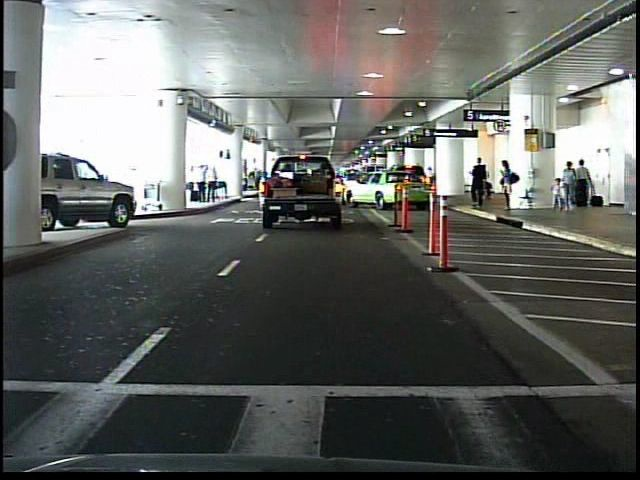person: (498, 155, 519, 215), (468, 154, 491, 207), (483, 159, 496, 206)
